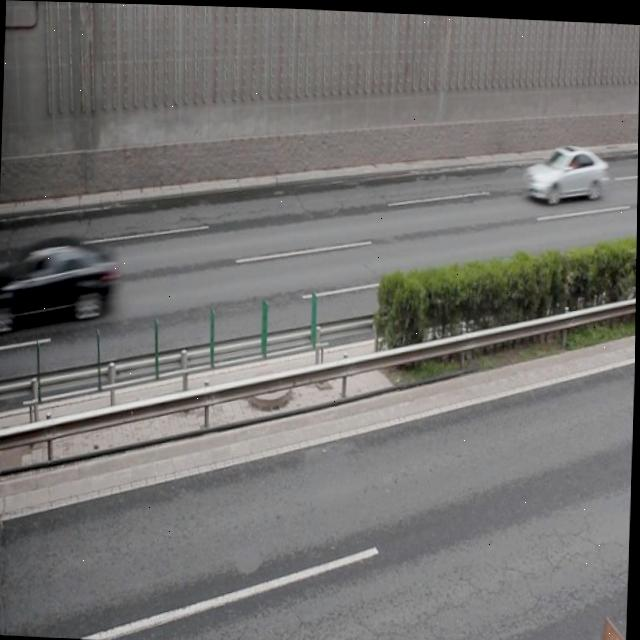car: (10, 235, 116, 322), (523, 137, 607, 201)
